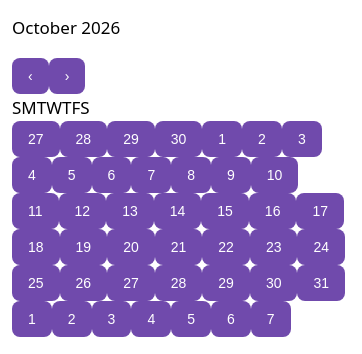
Test: MiniMonth › browses back a month without moving the view
Click the button named "Show previous month": (30, 76) [12,58,49,94]
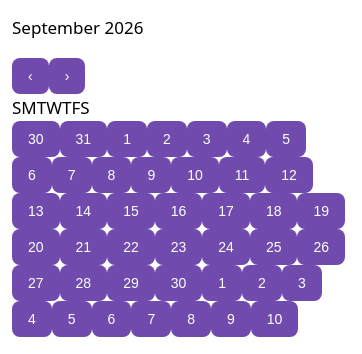
Now the text "September 2026" is shown, box [12,16,143,39]
